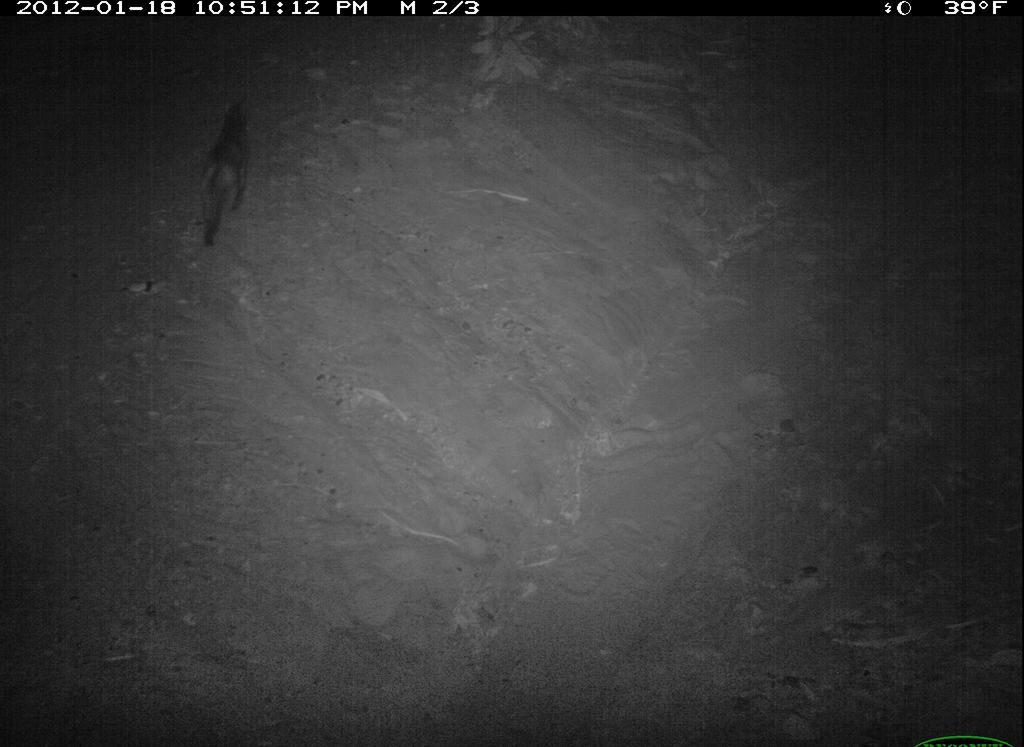cat: (180, 76, 275, 259)
